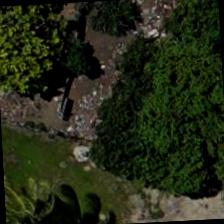Kelapa_Sawit: (3, 177, 72, 223)
